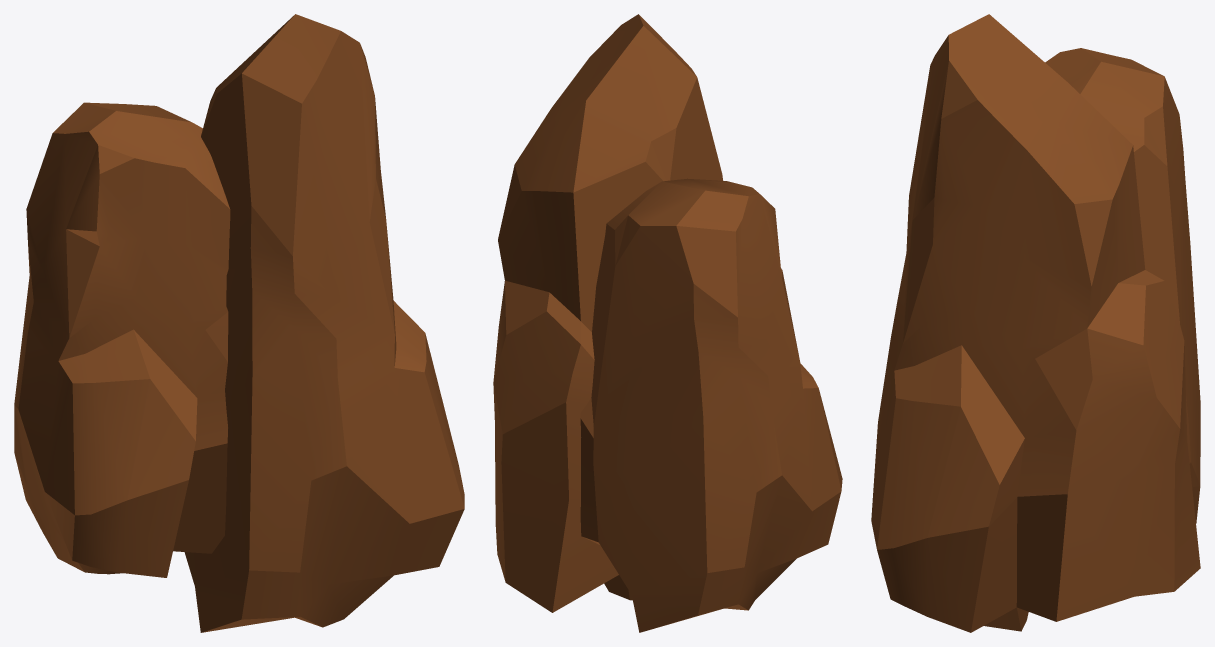
File: Rock-R2UjZAX3By.glb
The picture shows the model from 3 angles, left to right: view 1: azimuth 30°, elevation 25°; view 2: azimuth 150°, elevation 25°; view 3: azimuth 270°, elevation 25°; orthographic projection. The views are drawn at different scales.
Parts seen in each view (by area): view 1: Rock_4; view 2: Rock_4; view 3: Rock_4.
Boxes of the visible parts, left/top/right/bottom form: Rock_4: left=14, top=14, right=464, bottom=632; Rock_4: left=493, top=14, right=842, bottom=632; Rock_4: left=871, top=14, right=1200, bottom=632.
Size of the model in its own units: 2.16 by 3.46 by 1.7.
Materials: 1 (1 with a texture image).
